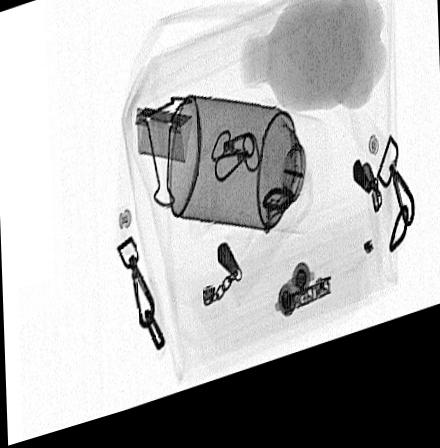Sprayer: (167, 103, 333, 258)
